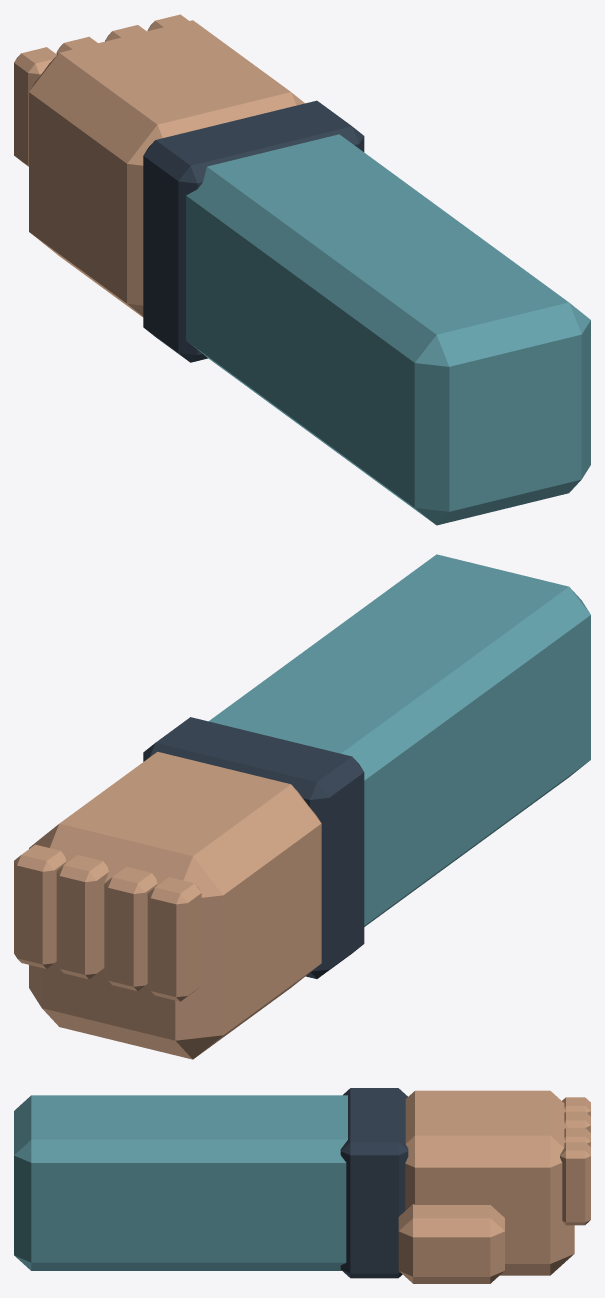
File: fist_forearm.glb
3 renders of one model, top to bottom at view 1: azimuth 30°, elevation 25°; view 2: azimuth 150°, elevation 25°; view 3: azimuth 270°, elevation 25°, orthographic. The views are drawn at different scales.
Visible parts, largest first — view 1: Sleeve, Clenched fist, Cuff, Knuckle; view 2: Sleeve, Clenched fist, Cuff, Knuckle, Knuckle.002, Knuckle.001, Knuckle.003; view 3: Sleeve, Clenched fist, Cuff, Thumb, Knuckle.003, Knuckle.001, Knuckle, Knuckle.002.
Part boxes in pixels (left/top/right/bottom): Sleeve: left=186, top=134, right=590, bottom=525; Clenched fist: left=29, top=20, right=304, bottom=317; Cuff: left=143, top=100, right=364, bottom=362; Knuckle: left=14, top=47, right=56, bottom=166; Sleeve: left=208, top=554, right=590, bottom=926; Clenched fist: left=29, top=751, right=321, bottom=1059; Cuff: left=143, top=717, right=364, bottom=978; Knuckle: left=147, top=877, right=201, bottom=1001; Knuckle.002: left=56, top=855, right=108, bottom=979; Knuckle.001: left=105, top=867, right=157, bottom=991; Knuckle.003: left=14, top=844, right=66, bottom=968; Sleeve: left=14, top=1095, right=347, bottom=1270; Clenched fist: left=405, top=1090, right=574, bottom=1275; Cuff: left=340, top=1088, right=408, bottom=1278; Thumb: left=398, top=1204, right=504, bottom=1283; Knuckle.003: left=560, top=1142, right=590, bottom=1225; Knuckle.001: left=564, top=1111, right=590, bottom=1132; Knuckle: left=562, top=1097, right=590, bottom=1116; Knuckle.002: left=564, top=1128, right=590, bottom=1146.
Size of the model in its own units: 0.2075 by 0.16 by 0.597.
